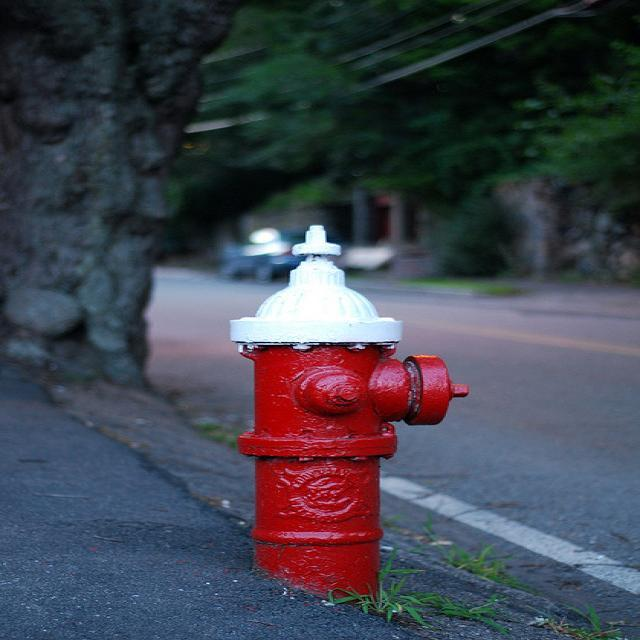fire_hydrant: (222, 221, 476, 606)
